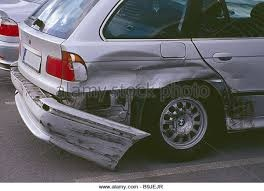Dent: (80, 51, 229, 88)
Scratch: (53, 116, 128, 164)
